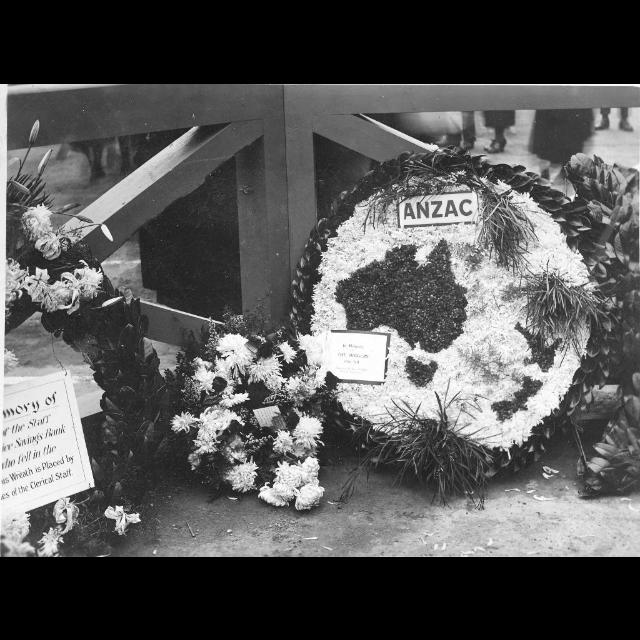Flower: (286, 146, 596, 478), (558, 148, 640, 492), (190, 313, 326, 509), (27, 258, 94, 308), (0, 252, 28, 326), (102, 502, 140, 538), (23, 199, 52, 241), (38, 524, 64, 556), (54, 496, 78, 530), (33, 227, 59, 257), (172, 410, 204, 434), (0, 515, 30, 539), (0, 538, 36, 556), (2, 344, 18, 374)
